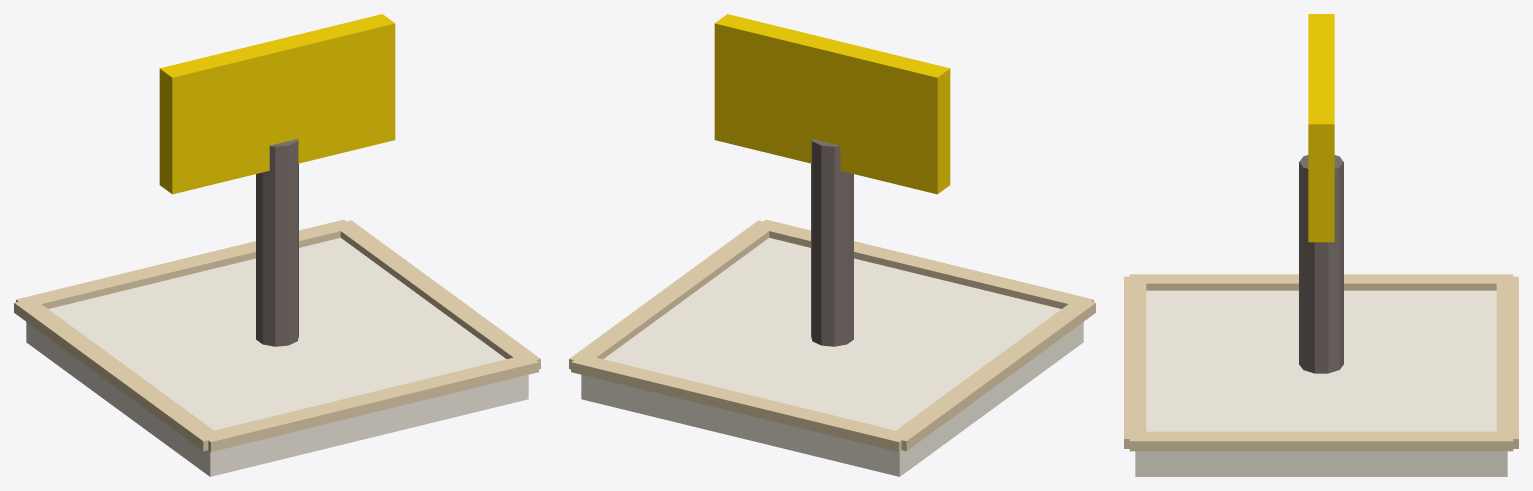
File: city.chance_billboard.glb
3 views of the same model, side by side, from view 1: azimuth 30°, elevation 25°; view 2: azimuth 150°, elevation 25°; view 3: azimuth 270°, elevation 25° (orthographic).
Visible parts, largest first — view 1: city.chance_billboard; view 2: city.chance_billboard; view 3: city.chance_billboard.
Part boxes in pixels (<box>): city.chance_billboard: <box>14,14,540,476</box>; city.chance_billboard: <box>569,14,1095,476</box>; city.chance_billboard: <box>1124,14,1518,476</box>.
Bounding box in the file's own units: 2.12 × 1.95 × 2.12.
